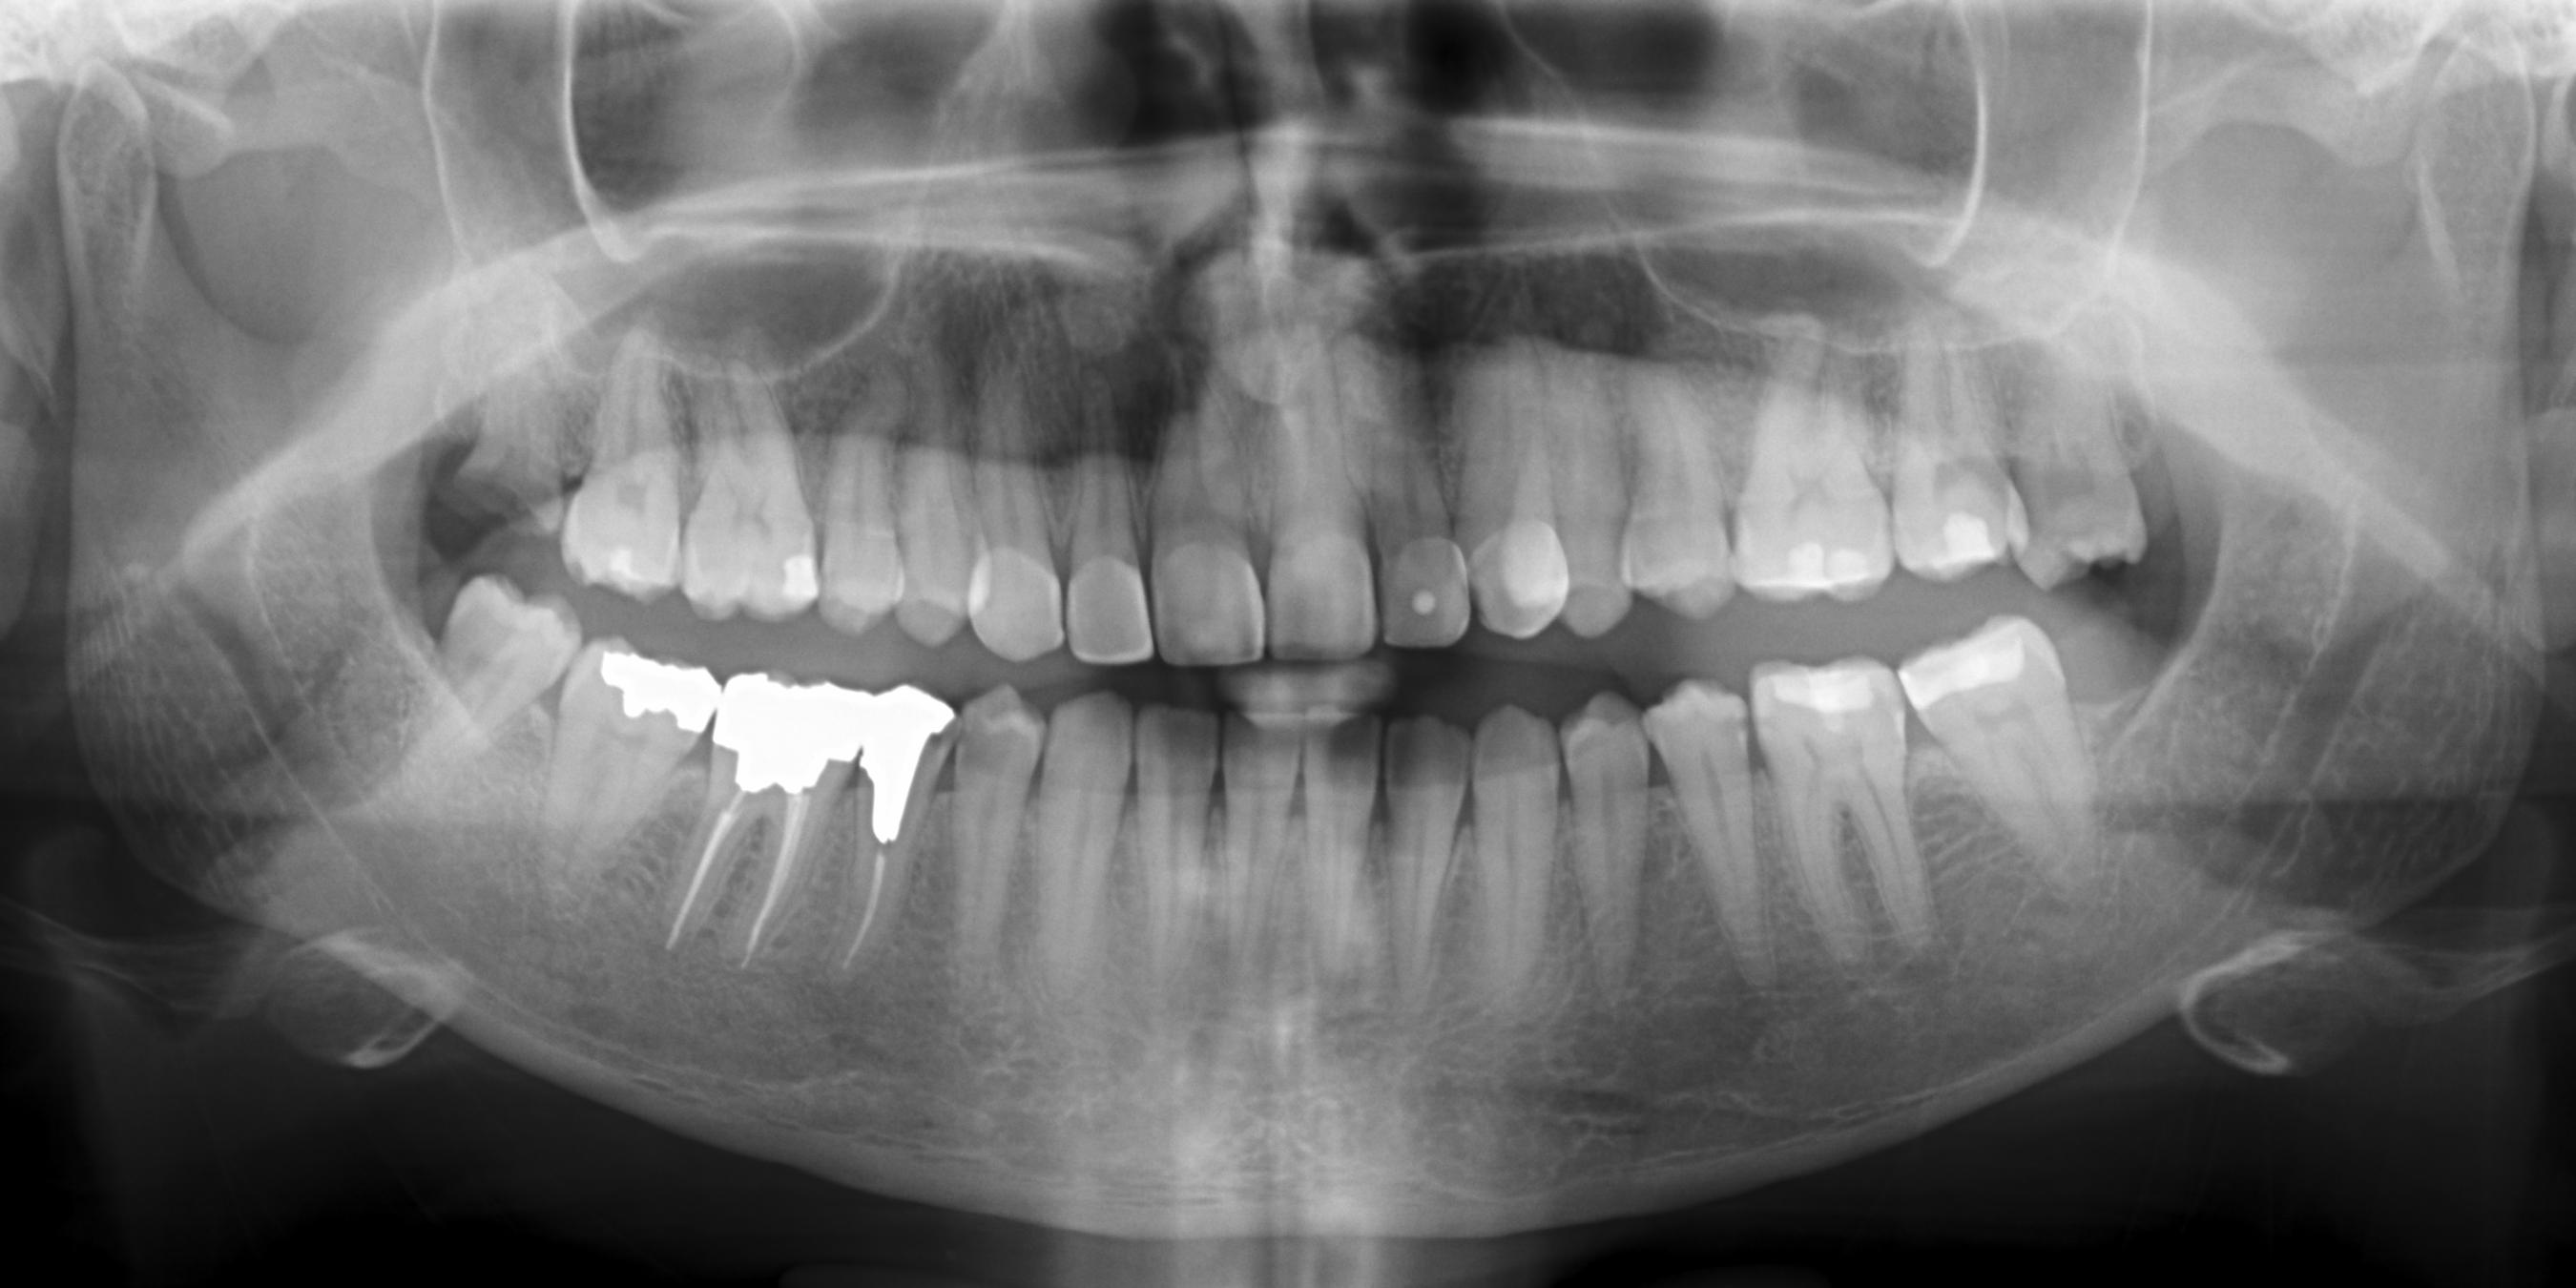Çürük: (718, 657, 861, 787), (1907, 631, 2034, 720), (590, 646, 715, 733), (861, 675, 930, 785), (1761, 667, 1881, 721), (1776, 542, 1874, 598), (772, 545, 826, 611), (1942, 508, 1993, 572)
Çürük Bölgesi: (958, 706, 1000, 772), (922, 718, 958, 759)
